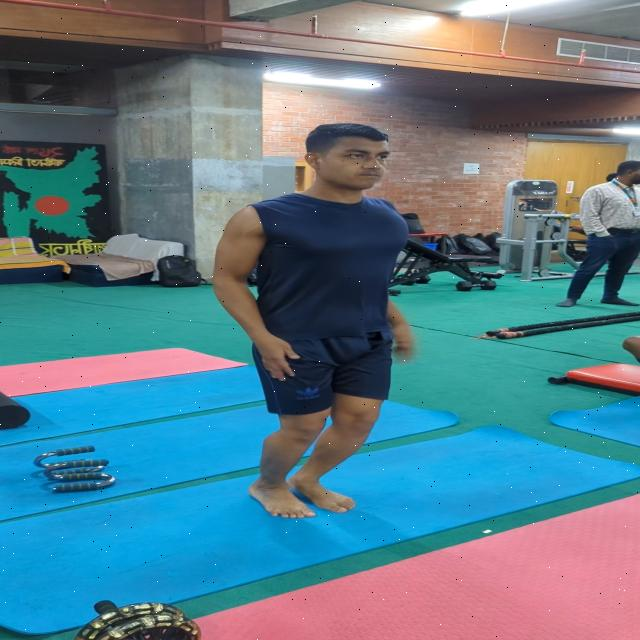Normal_JumpingJacks: (156, 119, 492, 507)
